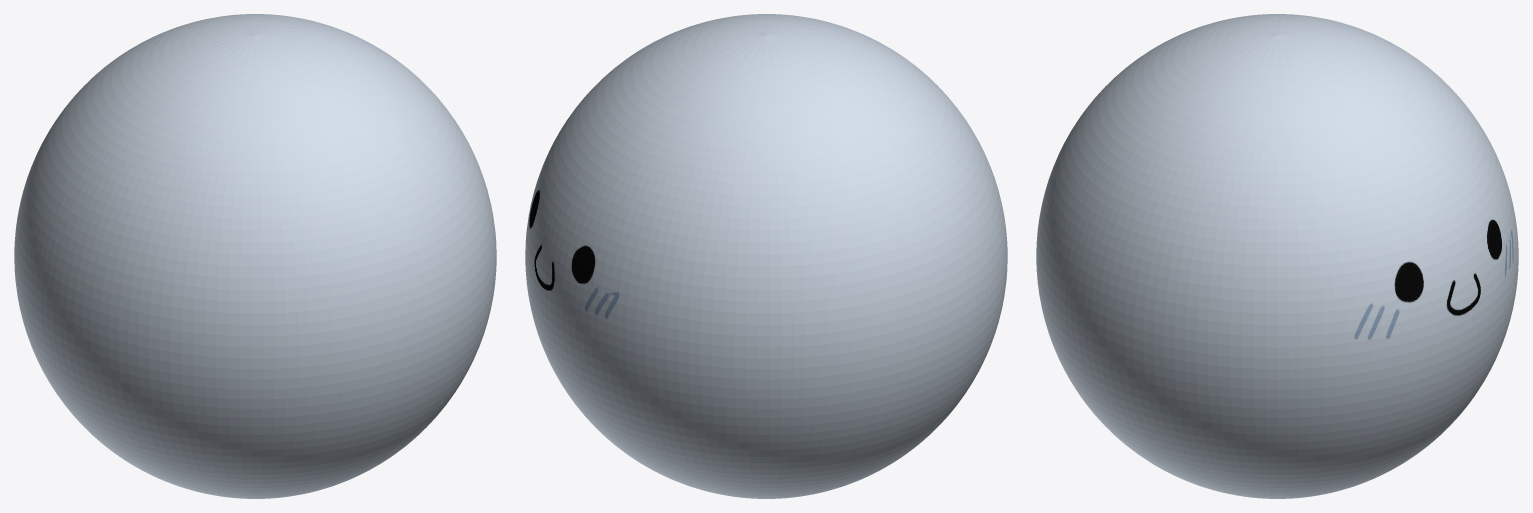
Rendered from snowball.glb.
3 views of the same model, side by side, from view 1: azimuth 30°, elevation 25°; view 2: azimuth 150°, elevation 25°; view 3: azimuth 270°, elevation 25° (orthographic).
Visible parts, largest first — view 1: Sphere; view 2: Sphere; view 3: Sphere.
Boxes of the visible parts, bbox=[...] form: Sphere: bbox=[14, 14, 496, 498]; Sphere: bbox=[525, 14, 1007, 498]; Sphere: bbox=[1036, 14, 1518, 498].
Bounding box in the file's own units: 1.97 × 2 × 1.97.
Materials: 1 (1 with a texture image).
